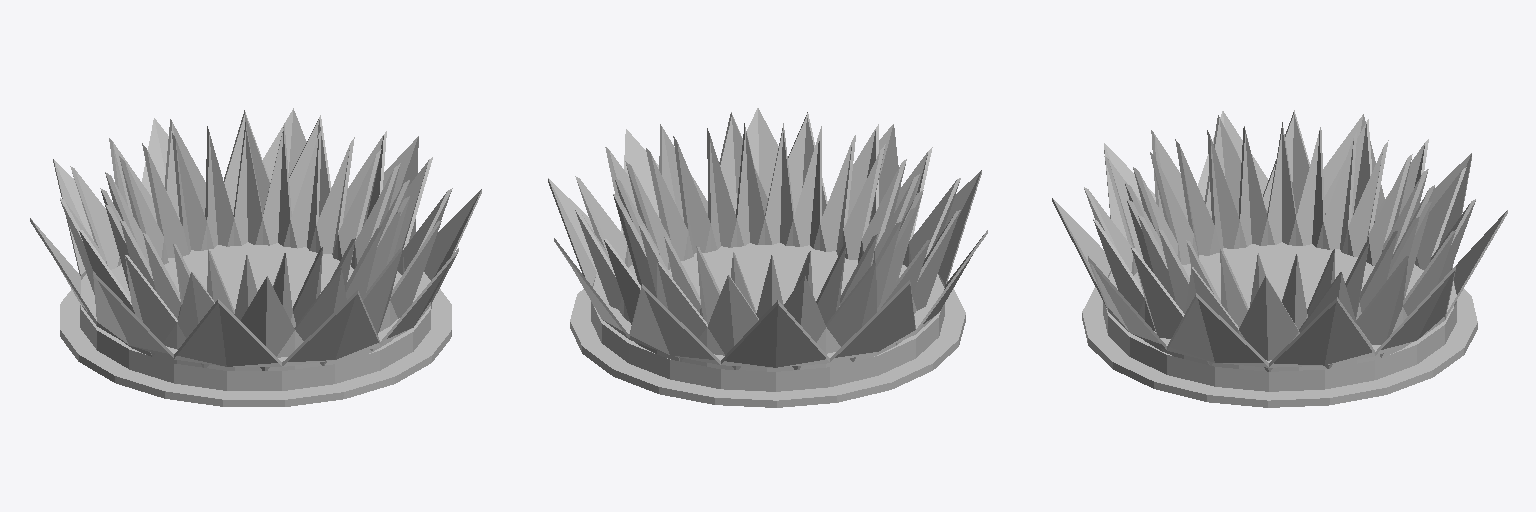
Rendered from portal_abrir_000022.obj.
3 views of the same model, side by side, from view 1: azimuth 30°, elevation 25°; view 2: azimuth 150°, elevation 25°; view 3: azimuth 270°, elevation 25° (orthographic).
Parts seen in each view (by area): view 1: pCylinder1, Cylinder.001, Cylinder; view 2: pCylinder1, Cylinder.001, Cylinder; view 3: pCylinder1, Cylinder.001, Cylinder.
Part boxes in pixels (bbox=[...]): pCylinder1: bbox=[30, 108, 481, 406]; Cylinder.001: bbox=[100, 122, 409, 327]; Cylinder: bbox=[60, 110, 452, 370]; pCylinder1: bbox=[548, 108, 987, 407]; Cylinder.001: bbox=[613, 123, 923, 324]; Cylinder: bbox=[575, 112, 960, 371]; pCylinder1: bbox=[1052, 111, 1507, 407]; Cylinder.001: bbox=[1125, 122, 1434, 329]; Cylinder: bbox=[1084, 110, 1475, 371].
Bounding box in the file's own units: 4.06 × 1.39 × 4.19.